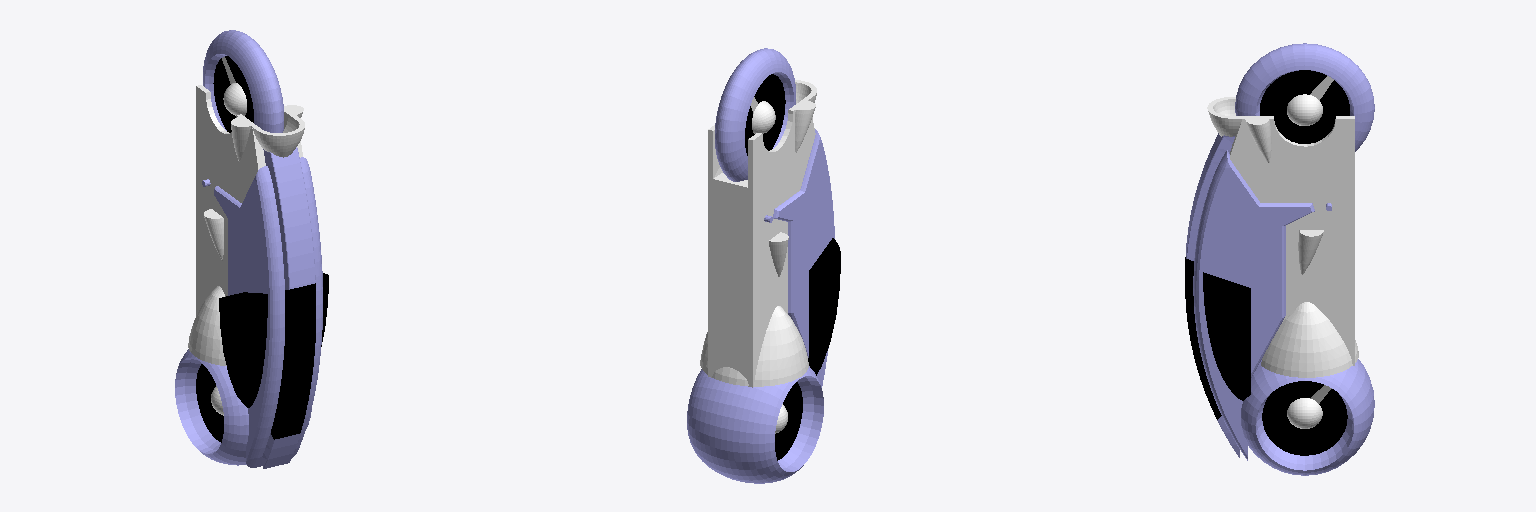
Rendered from lightcycle-ultra-high.obj.
The picture shows the model from 3 angles: view 1: azimuth 30°, elevation 25°; view 2: azimuth 150°, elevation 25°; view 3: azimuth 270°, elevation 25°; orthographic projection.
Visible parts, largest first — view 1: polySurface122; view 2: polySurface122; view 3: polySurface122.
Part boxes in pixels (x1,y1,x2,y2): polySurface122: (175, 30, 328, 468); polySurface122: (687, 48, 840, 483); polySurface122: (1185, 43, 1374, 475).
Size of the model in its own units: 2.51 by 9.87 by 4.01.